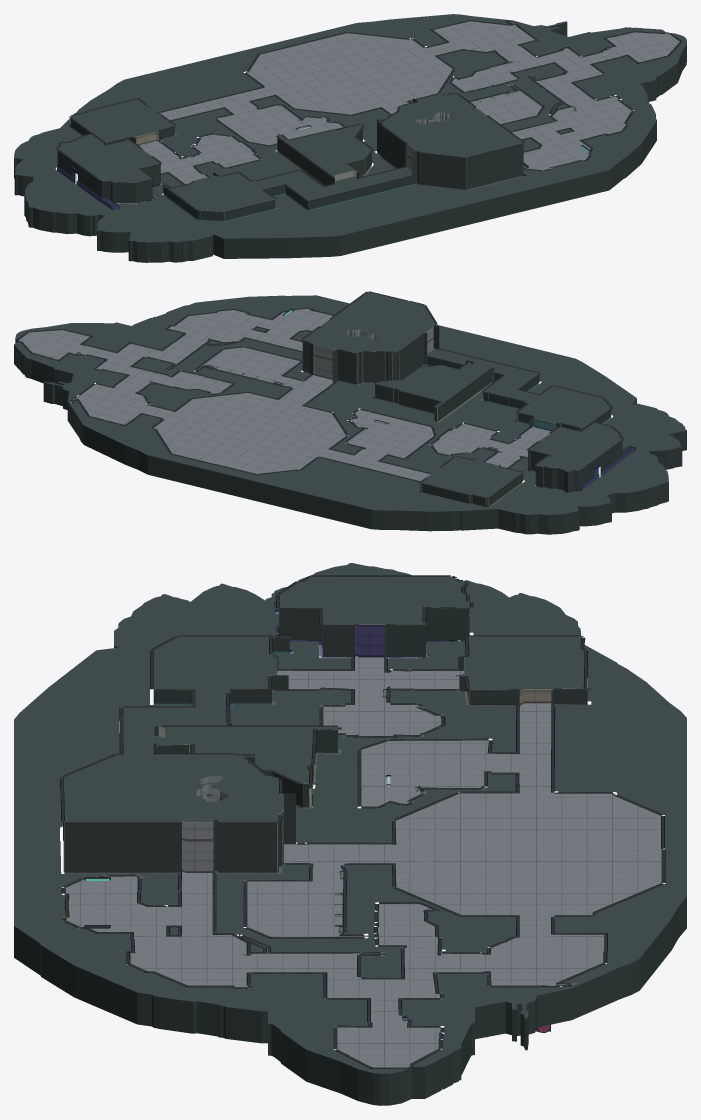
The model's file is skeld.glb.
3 renders of one model, top to bottom at view 1: azimuth 30°, elevation 25°; view 2: azimuth 150°, elevation 25°; view 3: azimuth 270°, elevation 25°, orthographic. The views are drawn at different scales.
Parts seen in each view (by area): view 1: cap, hullside, ceiling_Cafeteria, roof_Storage, roof_RightEngine, skirt_3.60, roof_Reactor, ceiling_BigYHallway, ceiling_Medical, skirt_2.00, roof_LeftEngine, roof_Electrical (+18 smaller); view 2: cap, hullside, ceiling_Cafeteria, roof_Storage, roof_RightEngine, skirt_3.60, roof_Reactor, ceiling_BigYHallway, ceiling_Medical, roof_LeftEngine, roof_Electrical, ceiling_Weapons (+18 smaller); view 3: cap, ceiling_Cafeteria, hullside, roof_Storage, roof_RightEngine, skirt_3.60, roof_Reactor, ceiling_Medical, ceiling_BigYHallway, roof_LeftEngine, ceiling_Weapons, ceiling_Admin (+21 smaller).
Boxes of the visible parts, bbox=[...] form: cap: bbox=[14, 14, 686, 242]; hullside: bbox=[14, 20, 686, 262]; ceiling_Cafeteria: bbox=[247, 33, 452, 114]; roof_Storage: bbox=[378, 93, 522, 157]; roof_RightEngine: bbox=[164, 167, 411, 211]; skirt_3.60: bbox=[377, 121, 523, 189]; roof_Reactor: bbox=[58, 134, 159, 182]; ceiling_BigYHallway: bbox=[501, 47, 625, 113]; ceiling_Medical: bbox=[217, 105, 343, 145]; skirt_2.00: bbox=[71, 119, 417, 220]; roof_LeftEngine: bbox=[71, 98, 174, 142]; roof_Electrical: bbox=[278, 124, 371, 177]; cap: bbox=[14, 295, 686, 514]; hullside: bbox=[14, 307, 686, 534]; ceiling_Cafeteria: bbox=[154, 393, 346, 473]; roof_Storage: bbox=[303, 292, 435, 354]; roof_RightEngine: bbox=[427, 348, 610, 430]; skirt_3.60: bbox=[302, 325, 435, 384]; roof_Reactor: bbox=[528, 422, 621, 471]; ceiling_BigYHallway: bbox=[72, 333, 231, 388]; ceiling_Medical: bbox=[347, 410, 433, 458]; roof_LeftEngine: bbox=[421, 457, 521, 497]; roof_Electrical: bbox=[376, 362, 491, 407]; ceiling_Weapons: bbox=[72, 382, 147, 424]; cap: bbox=[14, 563, 686, 1073]; ceiling_Cafeteria: bbox=[392, 790, 661, 918]; hullside: bbox=[14, 624, 686, 1105]; roof_Storage: bbox=[63, 754, 283, 821]; roof_RightEngine: bbox=[123, 636, 289, 755]; skirt_3.60: bbox=[63, 758, 283, 872]; roof_Reactor: bbox=[279, 577, 469, 624]; ceiling_Medical: bbox=[361, 740, 498, 806]; ceiling_BigYHallway: bbox=[239, 936, 470, 1025]; roof_LeftEngine: bbox=[461, 636, 587, 691]; ceiling_Weapons: bbox=[463, 934, 604, 985]; ceiling_Admin: bbox=[247, 878, 364, 936].
Bounding box in the file's own units: 47.69 × 4.46 × 26.56.
539 materials, 521 textured.
